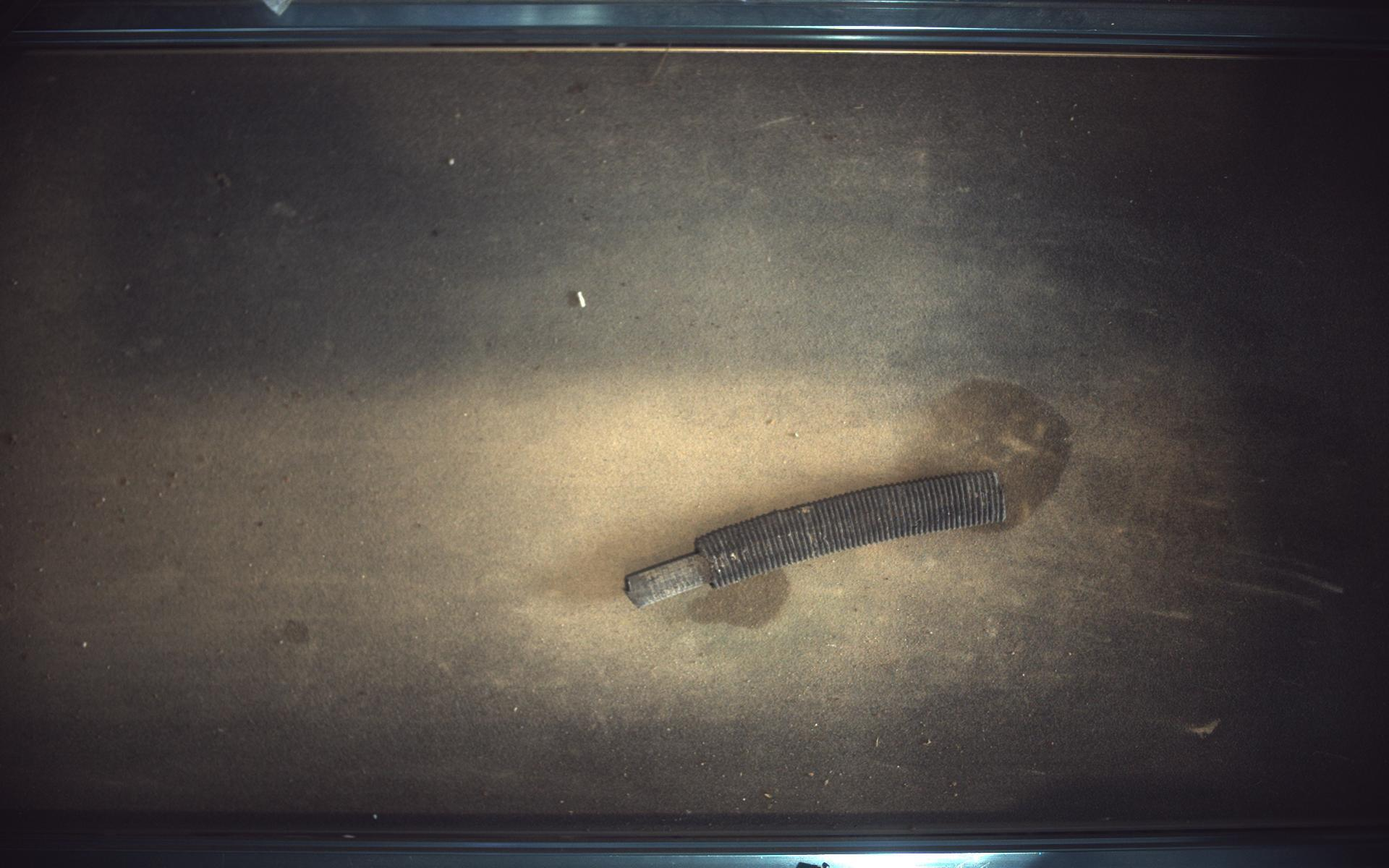pipes: (625, 472, 1008, 608)
